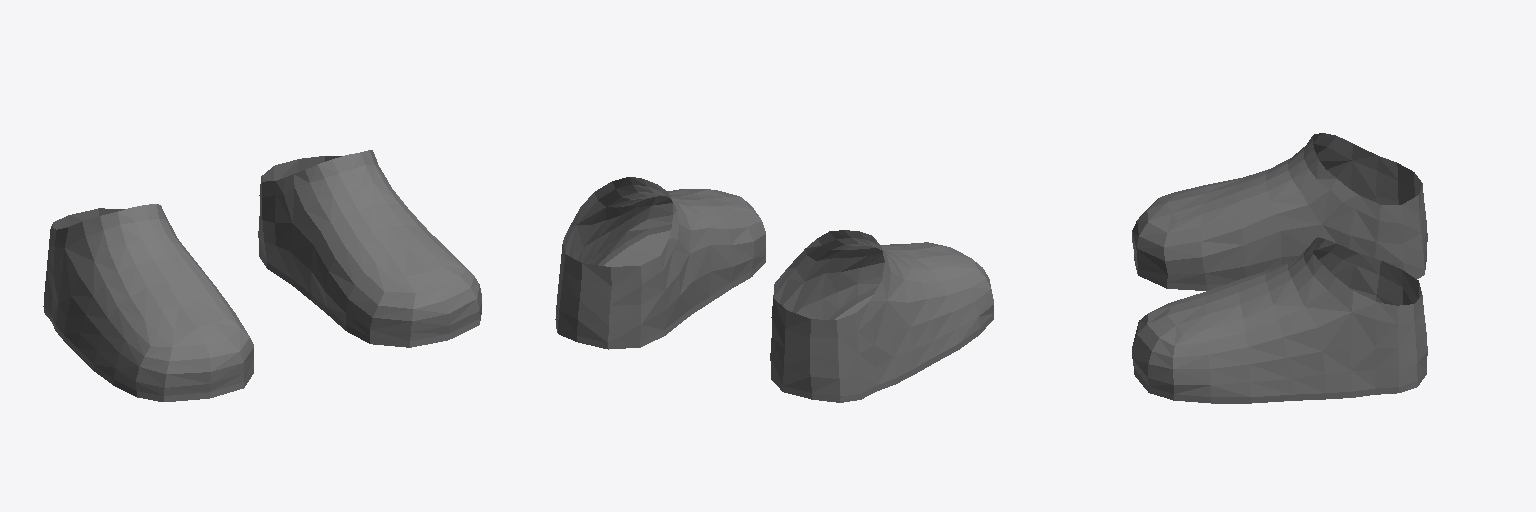
File: LowPoly_Aristocrata_BotasParte01.obj
3 views of the same model, side by side, from view 1: azimuth 30°, elevation 25°; view 2: azimuth 150°, elevation 25°; view 3: azimuth 270°, elevation 25° (orthographic).
Visible parts, largest first — view 1: LowPoly_Aristocrata_BotasParte01; view 2: LowPoly_Aristocrata_BotasParte01; view 3: LowPoly_Aristocrata_BotasParte01.
Boxes of the visible parts, x1=… form: LowPoly_Aristocrata_BotasParte01: x1=43, y1=150, x2=481, y2=401; LowPoly_Aristocrata_BotasParte01: x1=555, y1=177, x2=993, y2=402; LowPoly_Aristocrata_BotasParte01: x1=1132, y1=133, x2=1427, y2=403.
Size of the model in its own units: 42.53 by 14.44 by 30.77.